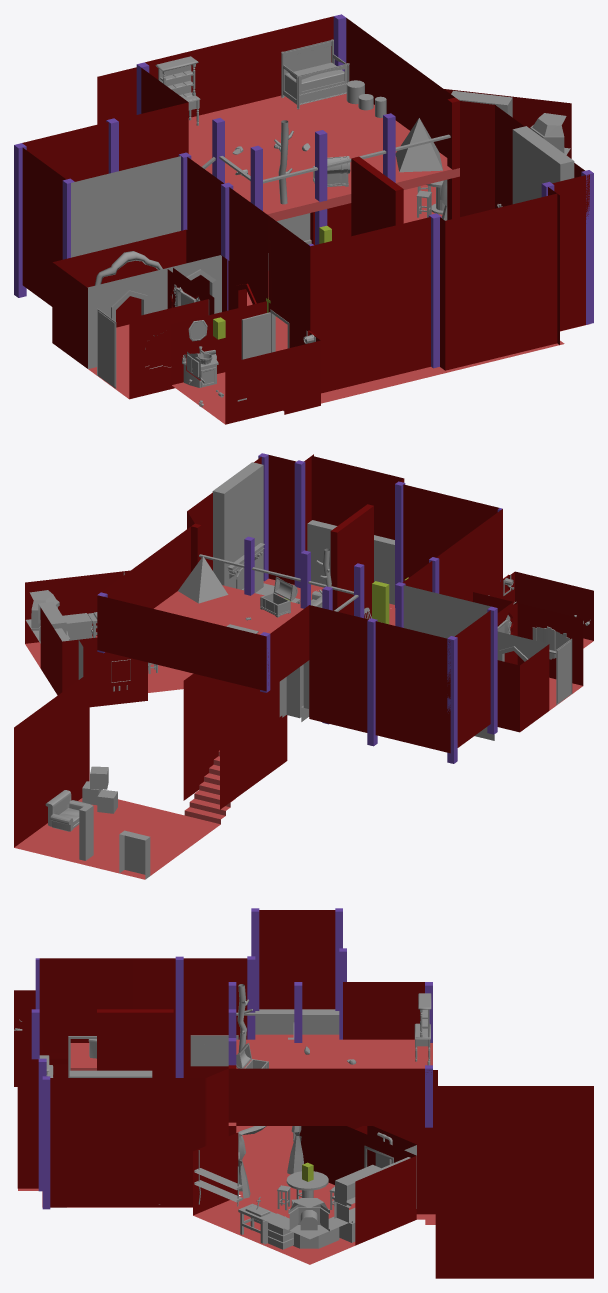
Rendered from 20200229_backup.FBX.
The picture shows the model from 3 angles, top to bottom: view 1: azimuth 30°, elevation 25°; view 2: azimuth 150°, elevation 25°; view 3: azimuth 270°, elevation 25°; orthographic projection. The views are drawn at different scales.
Parts seen in each view (by area): view 1: Object168, Group113, Plane215, Plane220, Plane222, Object033, rest_room_side_wall001, Box851, Plane221, Base_walk161, Base_walk159, Plane217 (+41 smaller); view 2: Plane222, Group113, Object168, Plane207, Plane204, Object176, Box815, Box545, Plane221, Group112, Box846, Plane215 (+38 smaller); view 3: Plane207, Plane216, Group113, Plane226, Object033, Plane221, Base_walk153, Plane215, Box846, Box547, Box551, Group112 (+28 smaller).
Part boxes in pixels (x1=…): Object168: x1=310, y1=193, x2=557, y2=393; Group113: x1=141, y1=16, x2=454, y2=157; Plane215: x1=188, y1=93, x2=459, y2=221; Plane220: x1=71, y1=156, x2=180, y2=257; Plane222: x1=22, y1=102, x2=188, y2=181; Object033: x1=187, y1=157, x2=268, y2=310; rest_room_side_wall001: x1=225, y1=340, x2=320, y2=424; Box851: x1=447, y1=97, x2=494, y2=220; Plane221: x1=22, y1=148, x2=65, y2=306; Base_walk161: x1=87, y1=255, x2=221, y2=368; Base_walk159: x1=129, y1=299, x2=208, y2=399; Plane217: x1=552, y1=174, x2=589, y2=331; Plane222: x1=309, y1=605, x2=450, y2=753; Group113: x1=97, y1=526, x2=309, y2=691; Object168: x1=311, y1=456, x2=502, y2=581; Plane207: x1=14, y1=672, x2=89, y2=847; Plane204: x1=14, y1=798, x2=220, y2=879; Object176: x1=220, y1=682, x2=287, y2=809; Box815: x1=212, y1=462, x2=277, y2=595; Box545: x1=183, y1=673, x2=229, y2=800; Plane221: x1=455, y1=610, x2=490, y2=747; Group112: x1=25, y1=624, x2=147, y2=707; Box846: x1=330, y1=504, x2=373, y2=618; Plane215: x1=154, y1=585, x2=303, y2=634; Plane207: x1=435, y1=1152, x2=593, y2=1278; Plane216: x1=50, y1=1078, x2=206, y2=1207; Group113: x1=236, y1=982, x2=431, y2=1125; Plane226: x1=435, y1=1086, x2=593, y2=1152; Object033: x1=108, y1=958, x2=247, y2=1077; Plane221: x1=259, y1=910, x2=335, y2=1009; Base_walk153: x1=39, y1=958, x2=107, y2=1077; Plane215: x1=228, y1=1039, x2=432, y2=1125; Box846: x1=97, y1=1009, x2=173, y2=1077; Box547: x1=355, y1=1156, x2=416, y2=1245; Box551: x1=263, y1=1165, x2=383, y2=1249; Group112: x1=193, y1=1126, x2=416, y2=1264.
Size of what is drawn, in the model's own units: 1760 by 764 by 1830.
